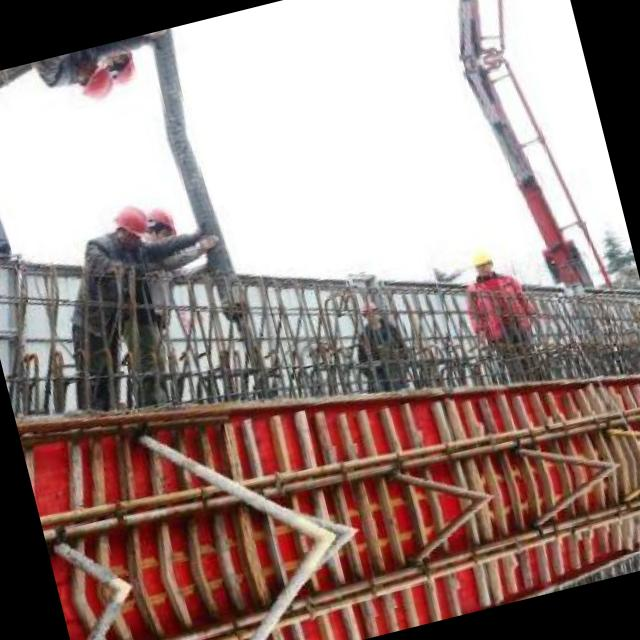helmet: (134, 197, 180, 248), (96, 42, 142, 92), (105, 199, 151, 248), (70, 56, 116, 105), (463, 240, 500, 281)
